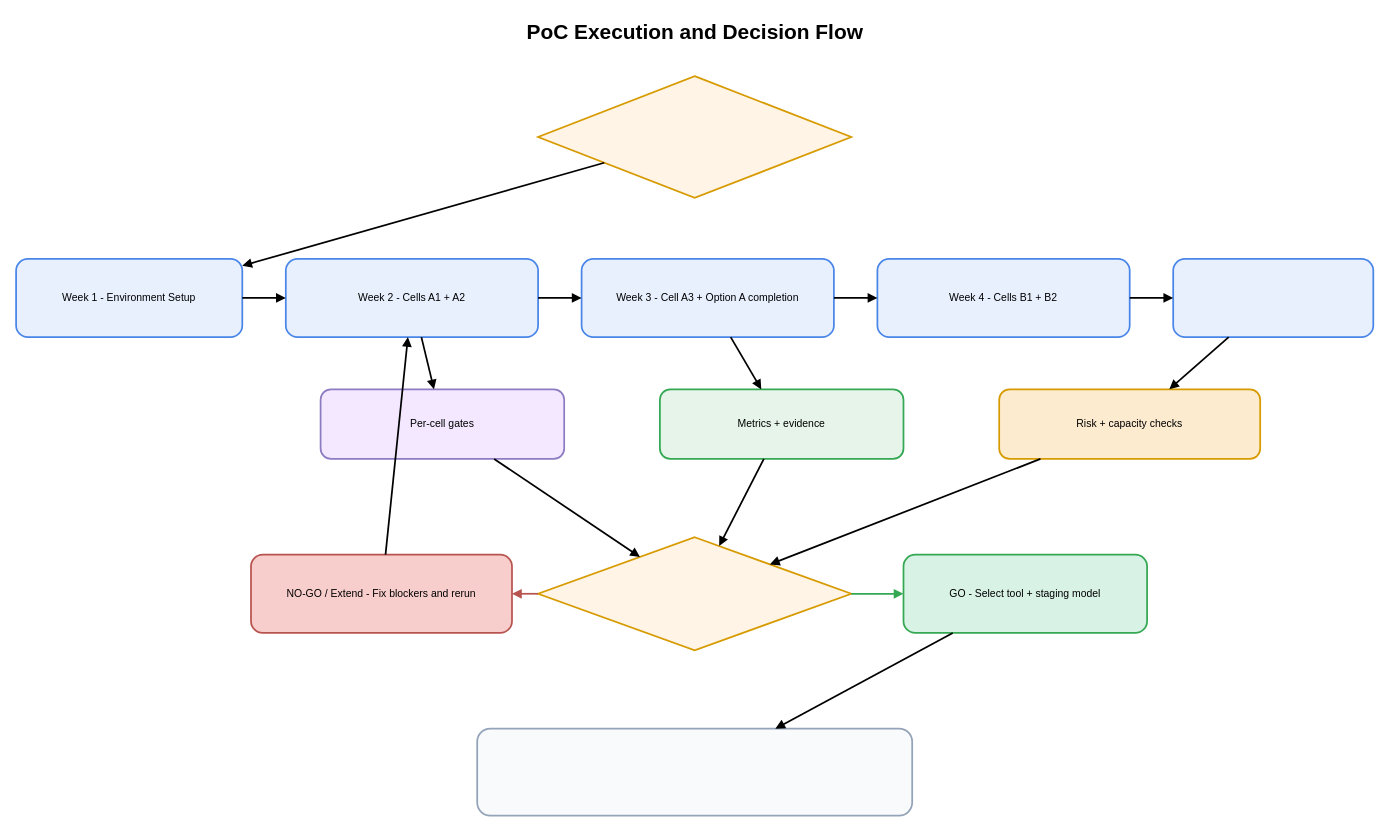
This 1389x831 diagram has some shape labels left out. Each missing label, with the box of its shape:
Entry Criteria Met?: (537, 75, 852, 198)
PoC deliverables completed: (476, 727, 913, 816)
Week 5 - Cell B3 + Decision: (1172, 258, 1374, 338)
Weighted score complete?: (537, 536, 852, 651)
